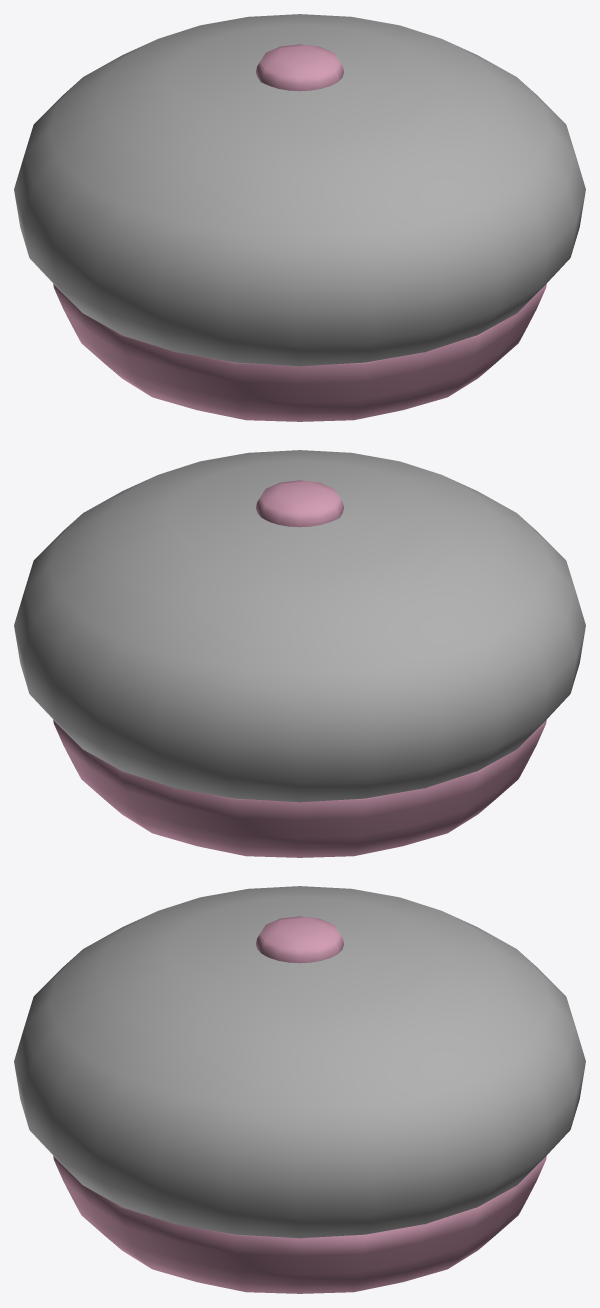
File: UFO.fbx
The picture shows the model from 3 angles, top to bottom: view 1: azimuth 30°, elevation 25°; view 2: azimuth 150°, elevation 25°; view 3: azimuth 270°, elevation 25°; orthographic projection.
Visible parts, largest first — view 1: pCylinder2, pCylinder1; view 2: pCylinder2, pCylinder1; view 3: pCylinder2, pCylinder1.
Boxes of the visible parts, <box> form: pCylinder2: <box>14,14,585,366</box>; pCylinder1: <box>53,44,546,421</box>; pCylinder2: <box>14,450,585,802</box>; pCylinder1: <box>53,480,546,857</box>; pCylinder2: <box>14,886,585,1238</box>; pCylinder1: <box>53,916,546,1293</box>.
Bounding box in the file's own units: 6.64 × 4.21 × 6.64.
